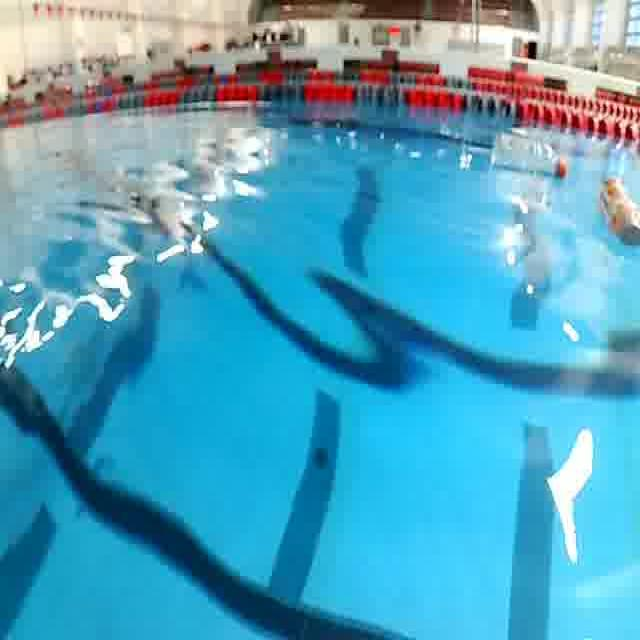Bottle: (487, 128, 572, 184), (592, 172, 640, 255)
